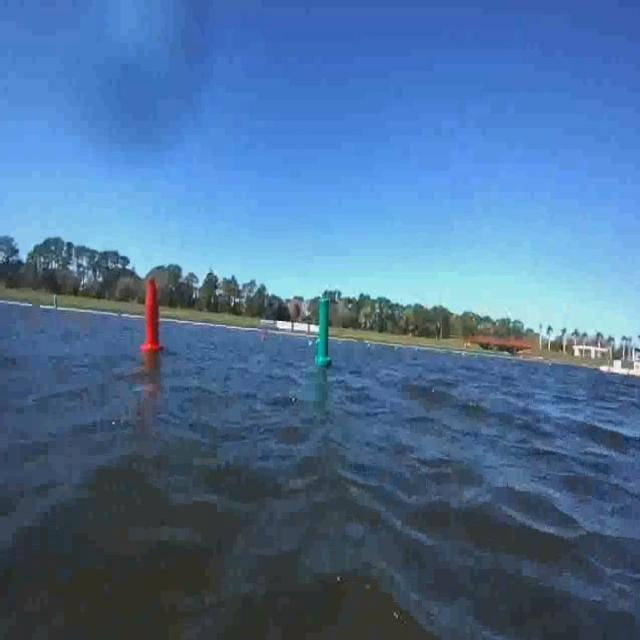green-column-buoy: (314, 297, 333, 369)
red-column-buoy: (140, 278, 162, 354)
